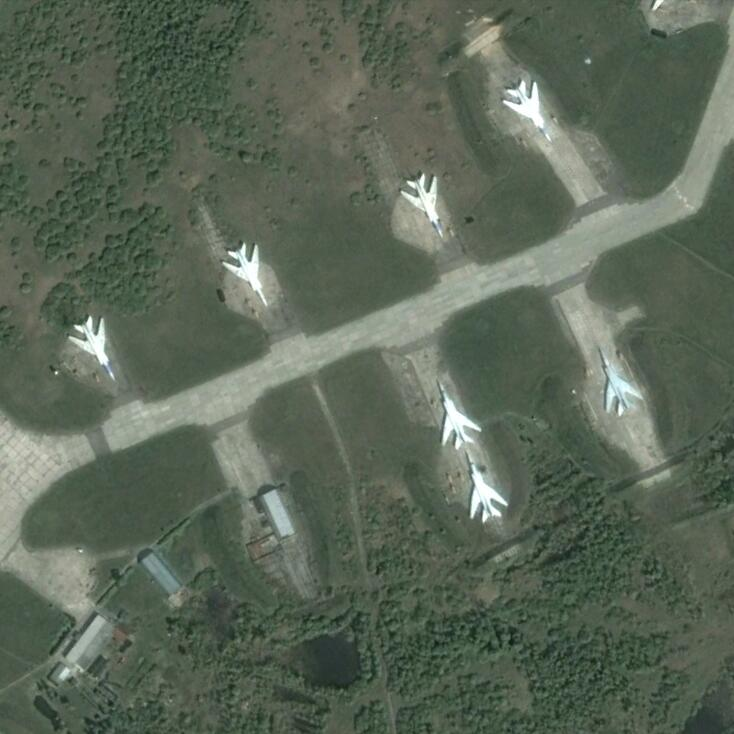A12: (432, 377, 482, 452), (501, 73, 553, 145), (68, 313, 120, 384), (458, 452, 509, 523), (594, 343, 642, 417), (220, 240, 270, 310), (399, 170, 445, 241)
